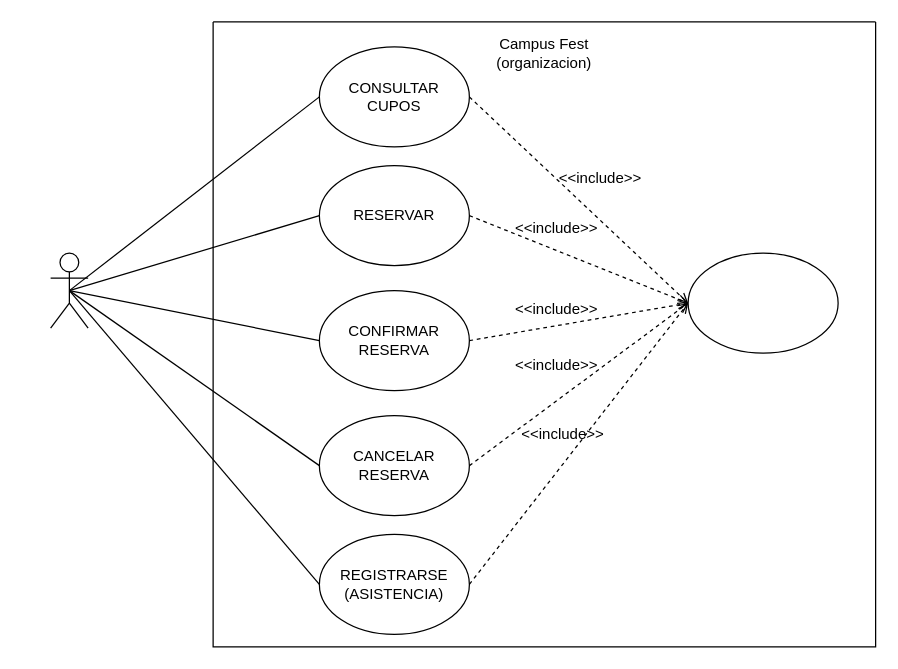
Image size: 898x669. Some labels were removed from this diagram. Here are the shapes that lost their labels. From the top down, the box of each, then its label:
(49, 252, 88, 328): ESTUDIANTE
(687, 252, 838, 353): CONSULTAR EVENTOS
